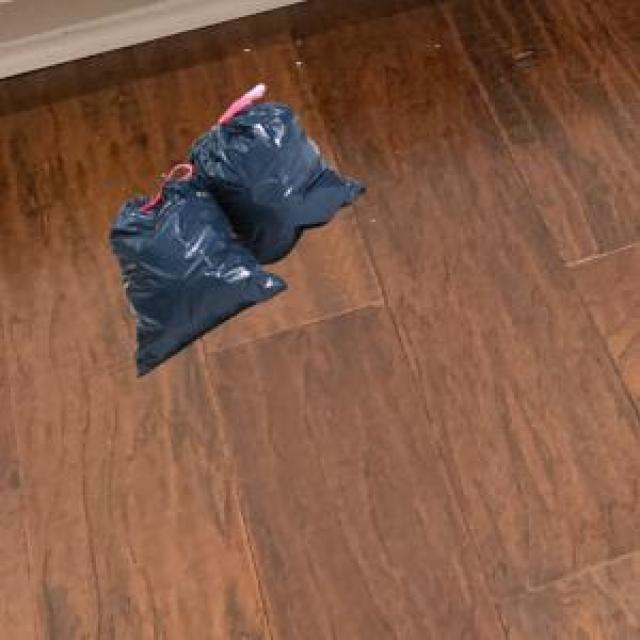miscellaneous trash: (105, 81, 361, 371)
